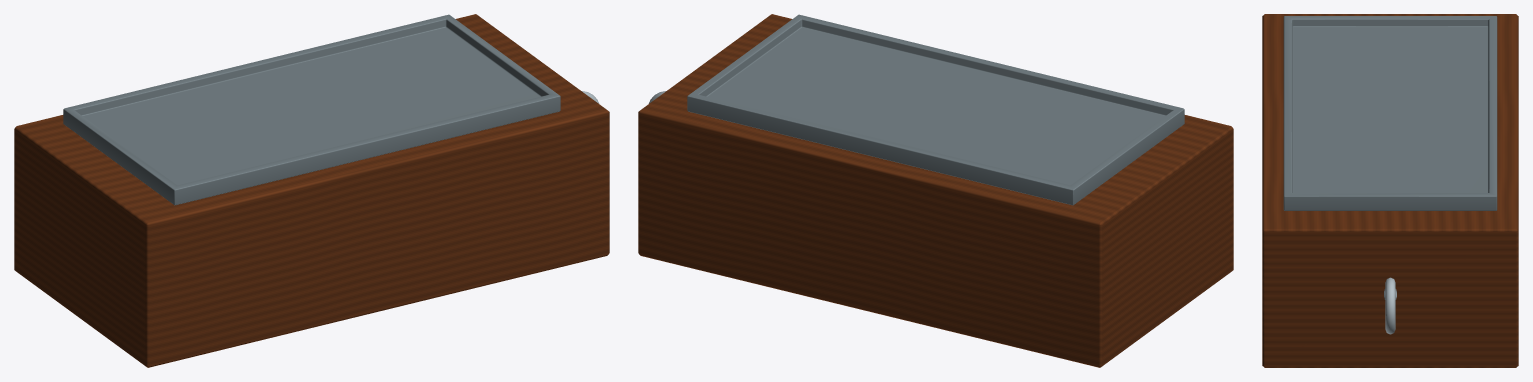
The model's file is VLAB_friction_block.fbx.
3 views of the same model, side by side, from view 1: azimuth 30°, elevation 25°; view 2: azimuth 150°, elevation 25°; view 3: azimuth 270°, elevation 25° (orthographic). The views are drawn at different scales.
Parts seen in each view (by area): view 1: VLAB_friction_block_Body_VIS, VLAB_friction_block_MassTray_VIS; view 2: VLAB_friction_block_Body_VIS, VLAB_friction_block_MassTray_VIS; view 3: VLAB_friction_block_Body_VIS, VLAB_friction_block_MassTray_VIS, VLAB_friction_block_Eye_VIS.
Boxes of the visible parts, x1,y1,x2,y2 form: VLAB_friction_block_Body_VIS: (14,14,609,367); VLAB_friction_block_MassTray_VIS: (63,14,560,205); VLAB_friction_block_Body_VIS: (638,14,1233,367); VLAB_friction_block_MassTray_VIS: (687,14,1184,205); VLAB_friction_block_Body_VIS: (1262,14,1518,367); VLAB_friction_block_MassTray_VIS: (1283,16,1497,210); VLAB_friction_block_Eye_VIS: (1384,277,1396,334).
Bounding box in the file's own units: 0.1347 × 0.04 × 0.06.
